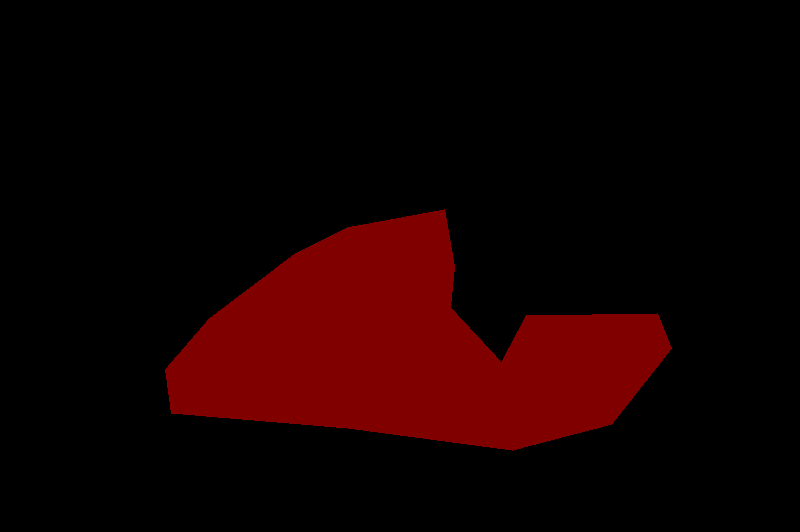fire: (165, 209, 671, 450)
